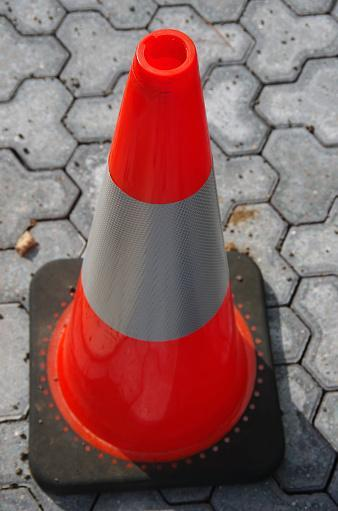Cone: (26, 27, 292, 491)
